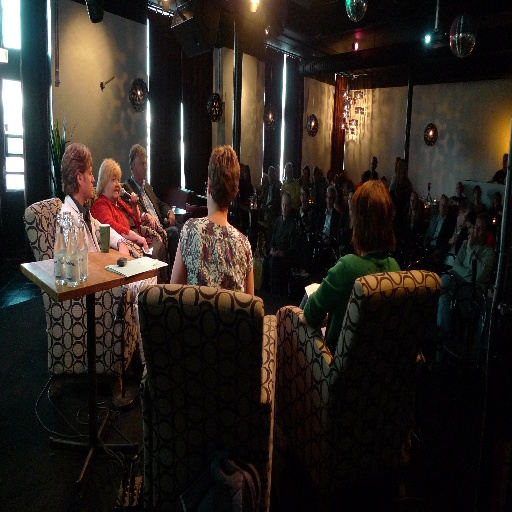hand: (169, 219, 189, 287), (117, 240, 130, 258), (145, 213, 158, 231), (127, 190, 138, 206), (467, 233, 473, 249), (451, 233, 458, 246), (142, 237, 148, 252), (168, 213, 174, 228), (486, 287, 493, 299)
